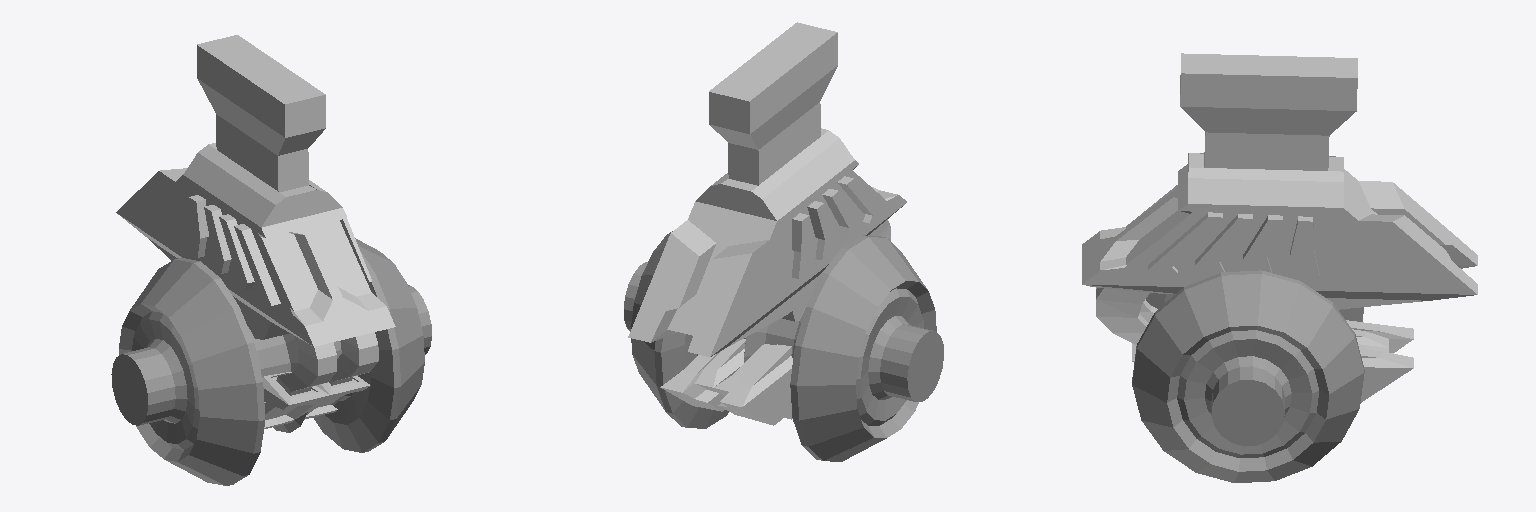
Rendered from cannon_base.obj.
3 renders of one model, left to right at view 1: azimuth 30°, elevation 25°; view 2: azimuth 150°, elevation 25°; view 3: azimuth 270°, elevation 25°, orthographic.
Visible parts, largest first — view 1: mesh_1, mesh_0; view 2: mesh_1, mesh_0; view 3: mesh_1, mesh_0.
Boxes of the visible parts, x1=… form: mesh_1: x1=116, y1=35, x2=395, y2=428; mesh_0: x1=111, y1=238, x2=431, y2=485; mesh_1: x1=628, y1=22, x2=906, y2=425; mesh_0: x1=624, y1=231, x2=943, y2=461; mesh_1: x1=1082, y1=53, x2=1477, y2=402; mesh_0: x1=1132, y1=270, x2=1364, y2=482.
Bounding box in the file's own units: 2.85 × 3.69 × 3.44.